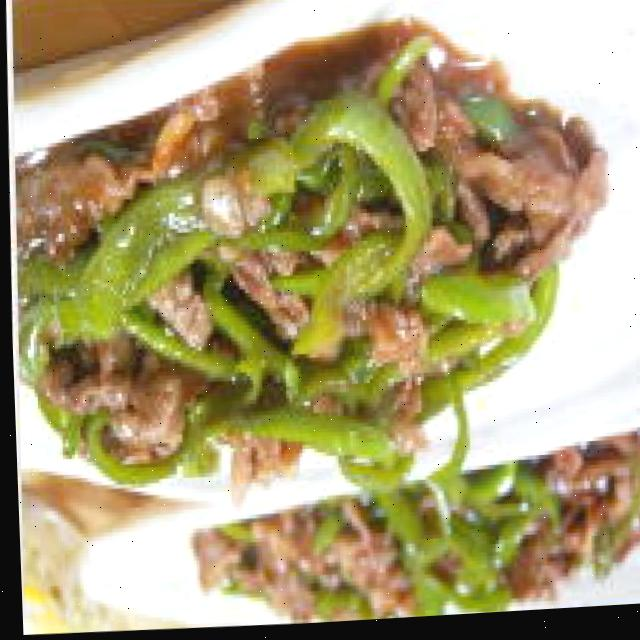牛肉菜式: (15, 0, 628, 550)
